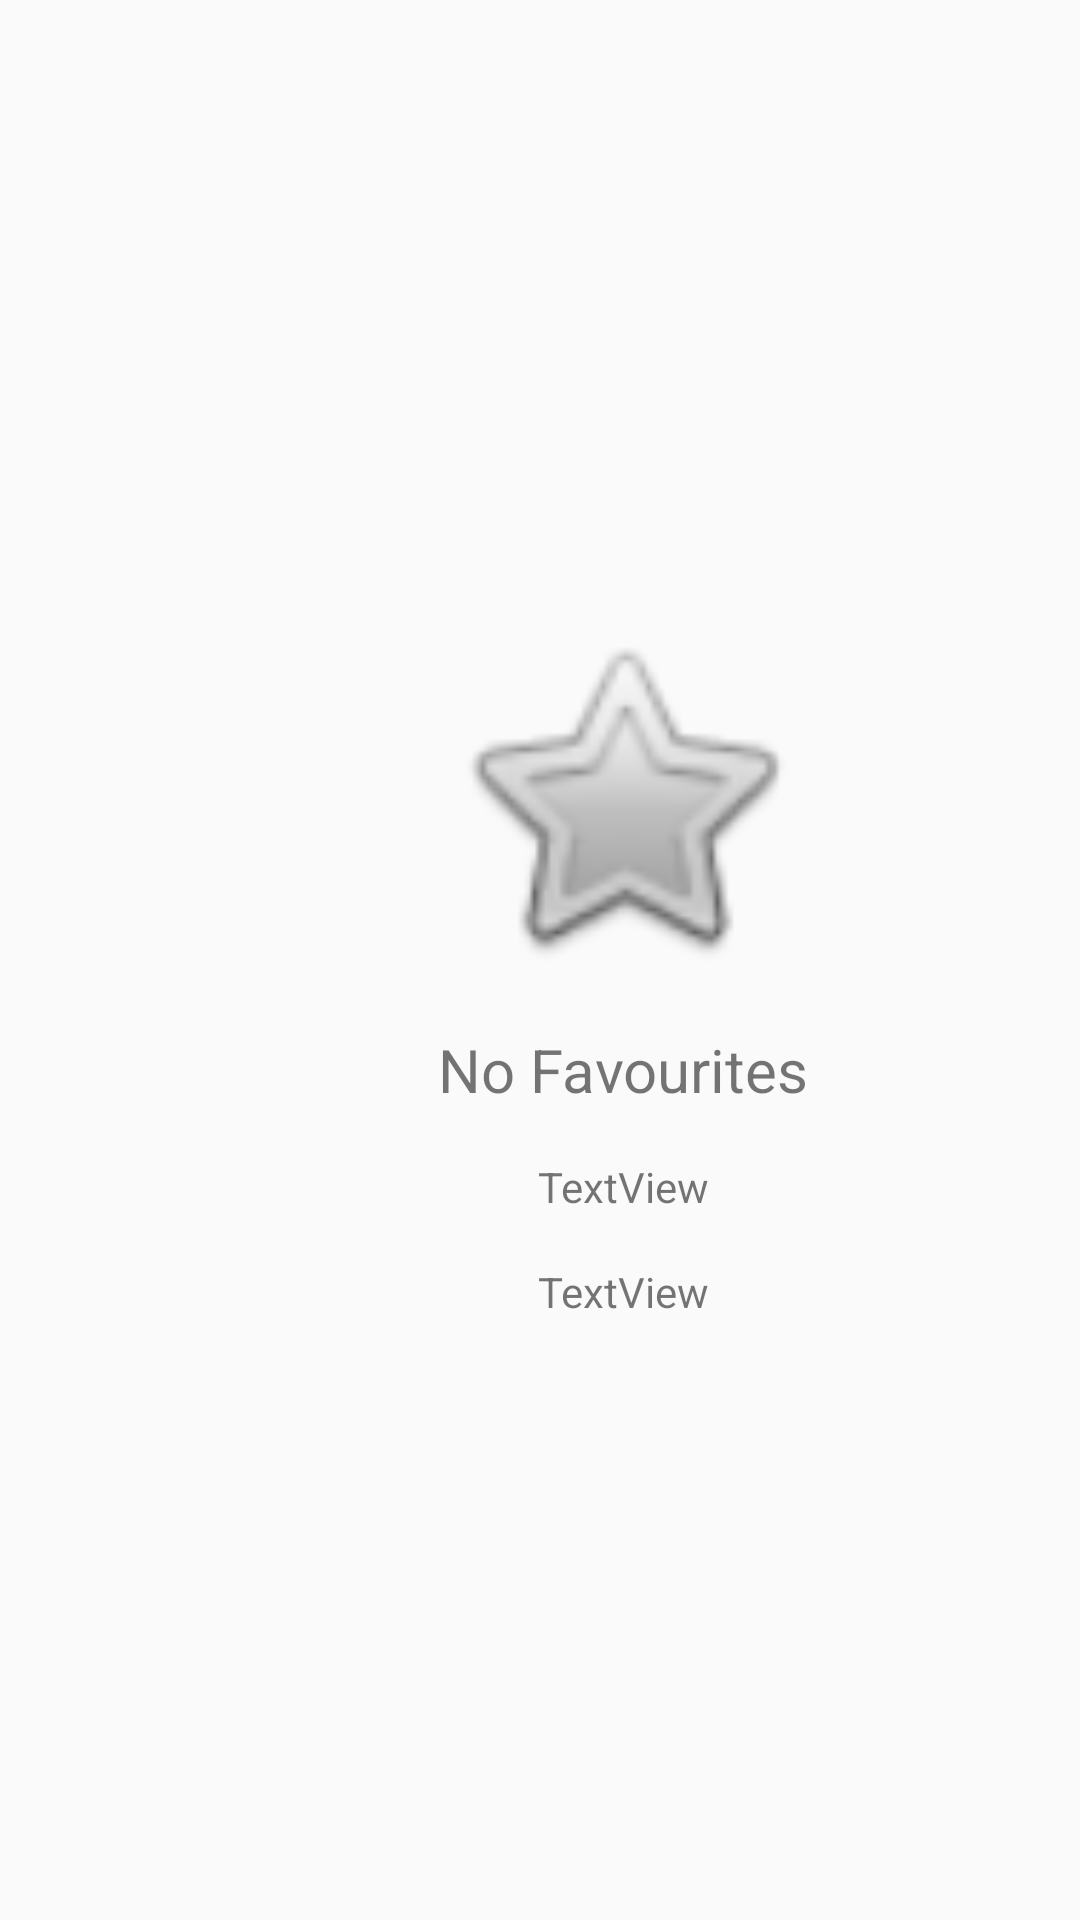

Icons on this 1080px×1920px Android screen, each with its box as (x1, y1, x2, y2):
star: (473, 652, 779, 950)
